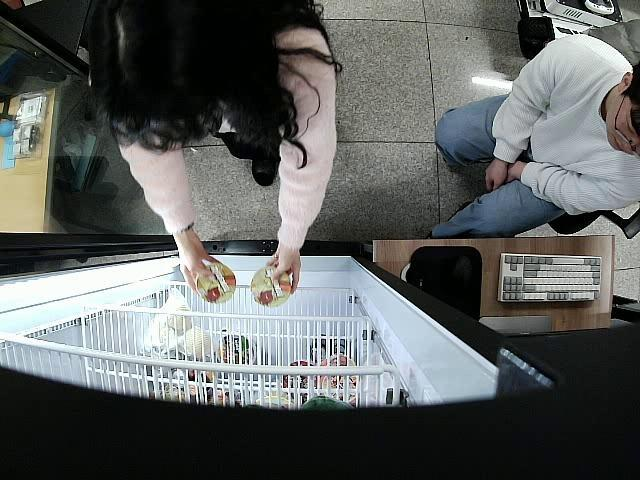04_chapagetti_S: (250, 264, 296, 308), (198, 262, 238, 302)
